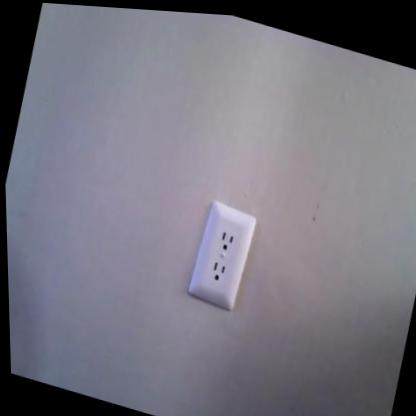OUTLET: (184, 198, 260, 313)
